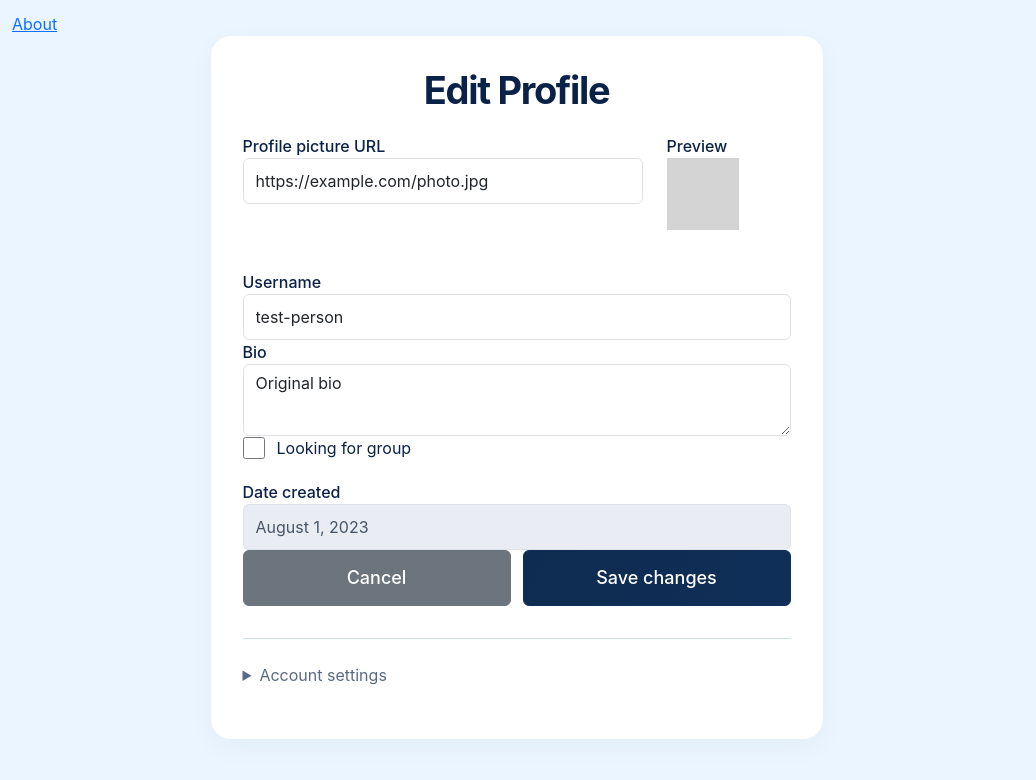
Scenario: a save finishing after leaving the form does not pull the user back
Expected: the text box labelled "Bio" is shown, x1=242 y1=364 x2=790 y2=436
Click the button "Save changes". click: click(656, 578)
box: x1=522 y1=550 x2=790 y2=606
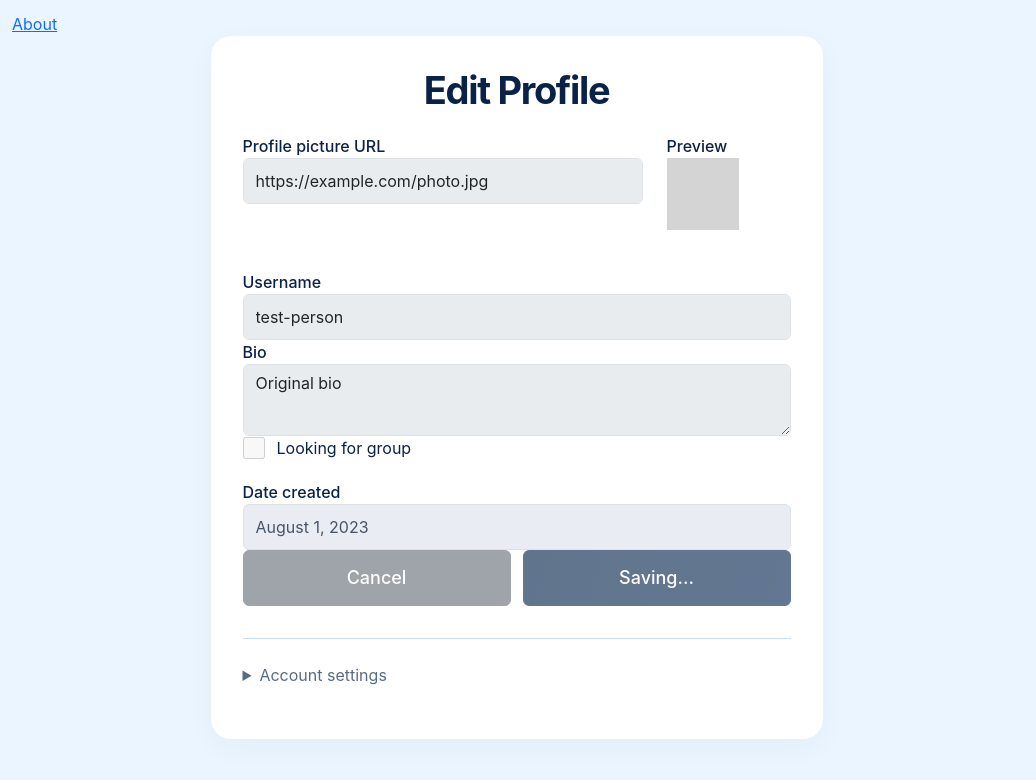
Click the link "About". click: click(35, 24)
box: x1=12 y1=14 x2=57 y2=34
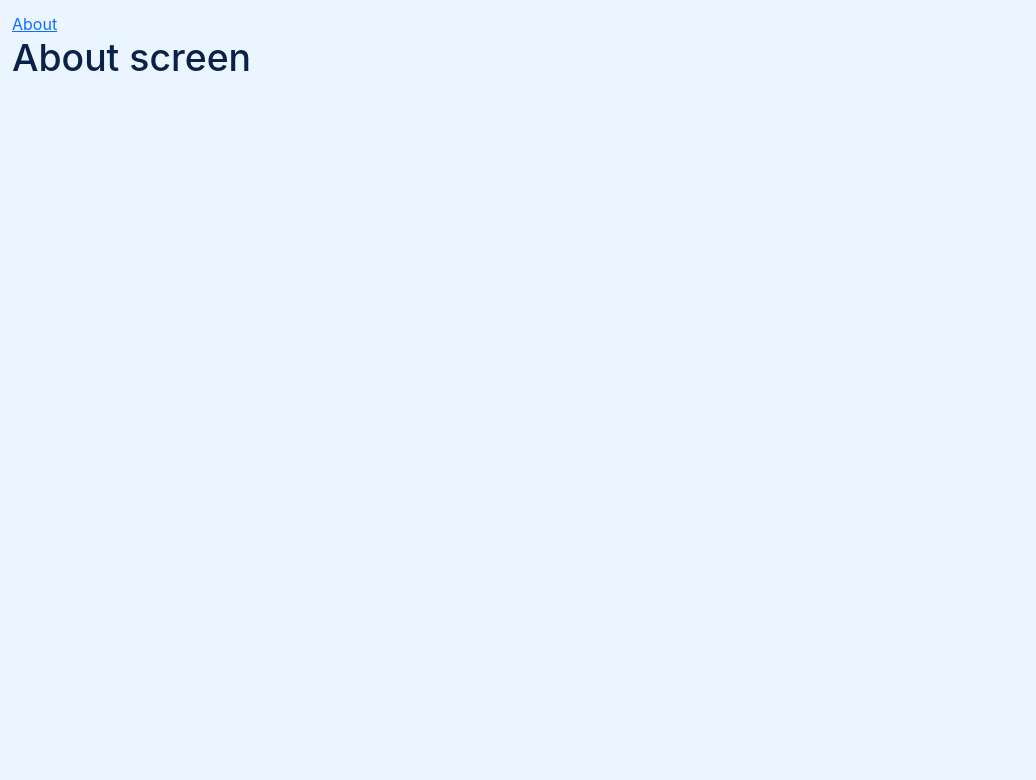
Expected: the heading "About screen" is shown, x1=12 y1=35 x2=251 y2=80
